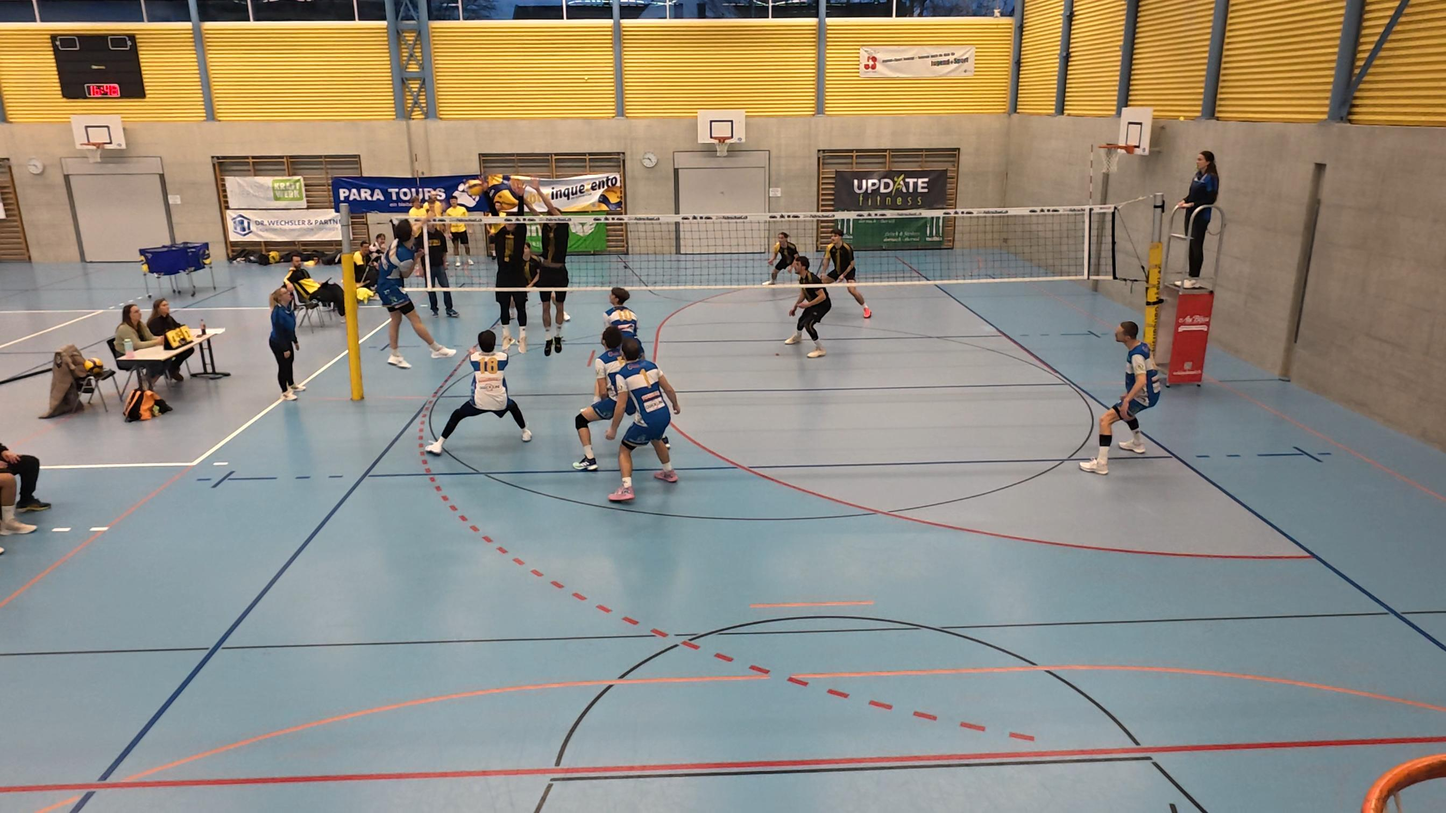Attack: (355, 206, 458, 371)
Block: (477, 186, 541, 373), (522, 182, 582, 360)
Player: (420, 331, 530, 455), (604, 338, 682, 504), (1078, 322, 1162, 474), (564, 325, 631, 471), (497, 235, 575, 327), (780, 261, 831, 359), (586, 285, 651, 361), (822, 225, 871, 319), (763, 227, 811, 289), (823, 208, 853, 265)
